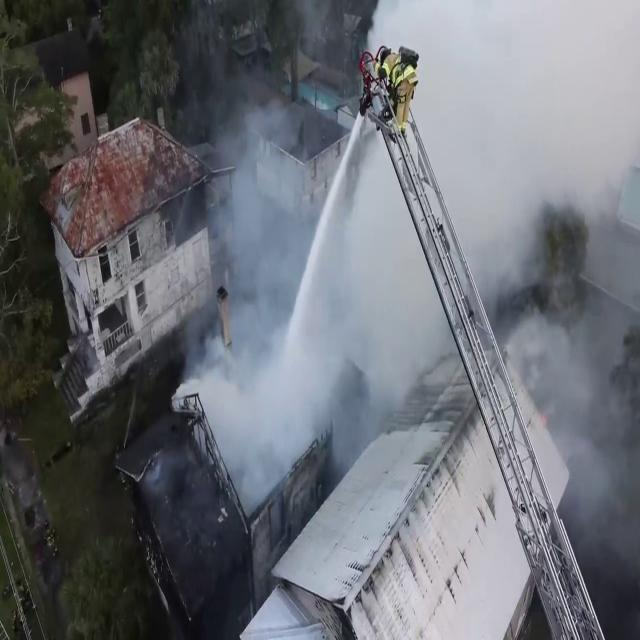Smoke: (202, 317, 326, 473)
